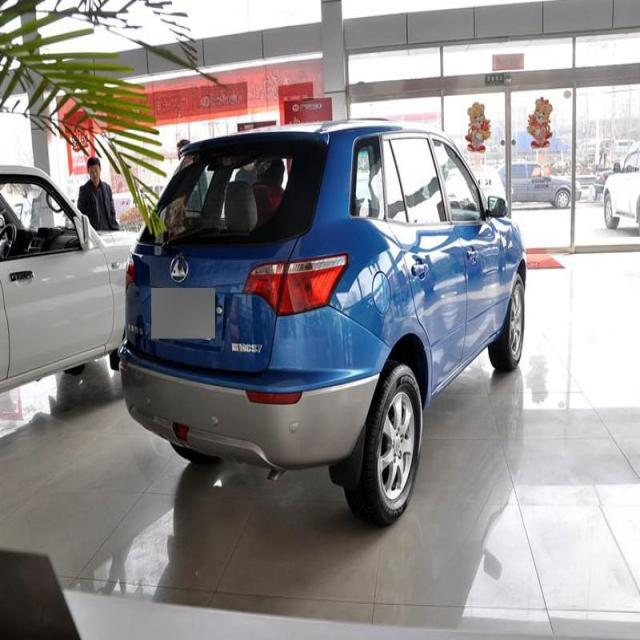back_glass: (137, 137, 331, 248)
back_left_side_light: (124, 252, 136, 294)
back_right_side_light: (241, 251, 351, 316)
door: (374, 142, 467, 383)
front_right_side_door: (425, 130, 510, 372)
front_right_side_mirror: (485, 194, 509, 221)
rear_bumper: (118, 346, 390, 472)
wheel: (342, 364, 424, 527), (486, 271, 526, 370)
